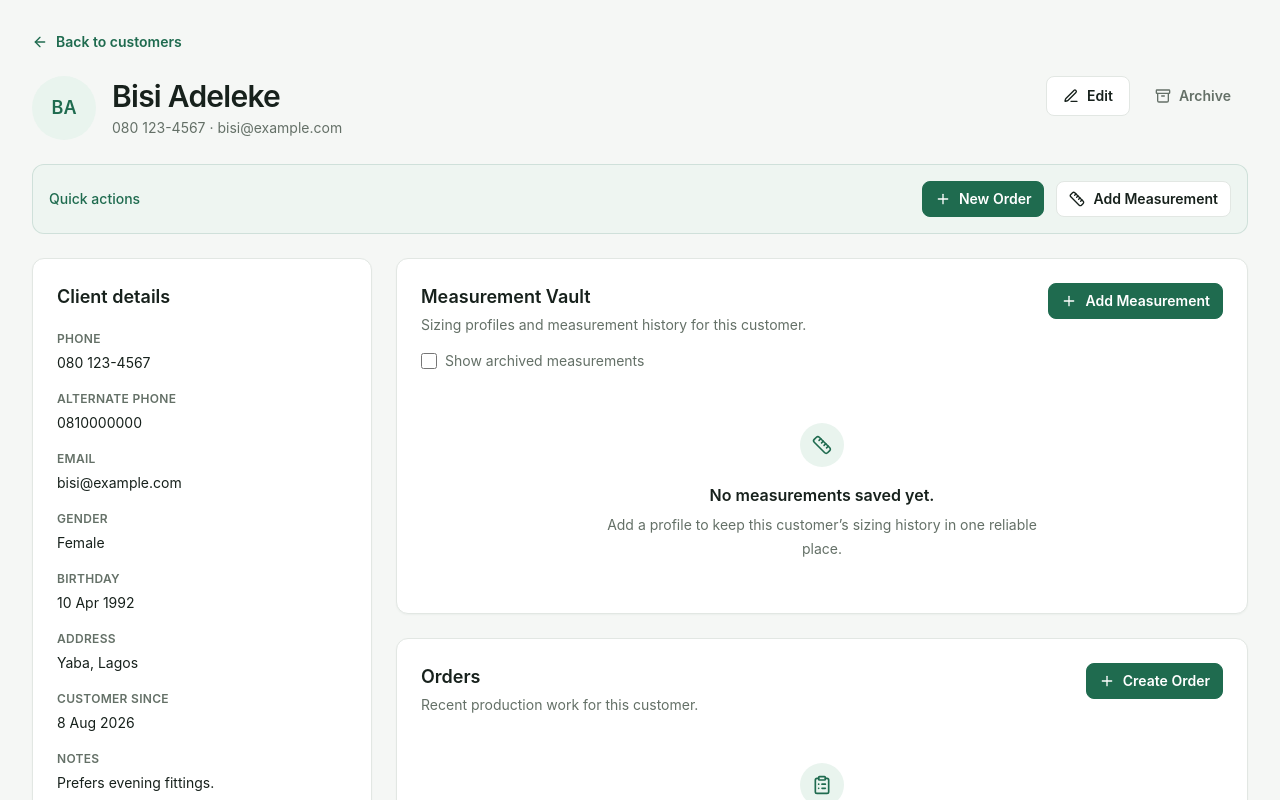
Test: archive confirmation is shown before archiving
Check: the heading "Bisi Adeleke" is shown, box [112,78,280,114]
Click the button "Archive".
click(1193, 96)  # box [1138,76,1248,116]
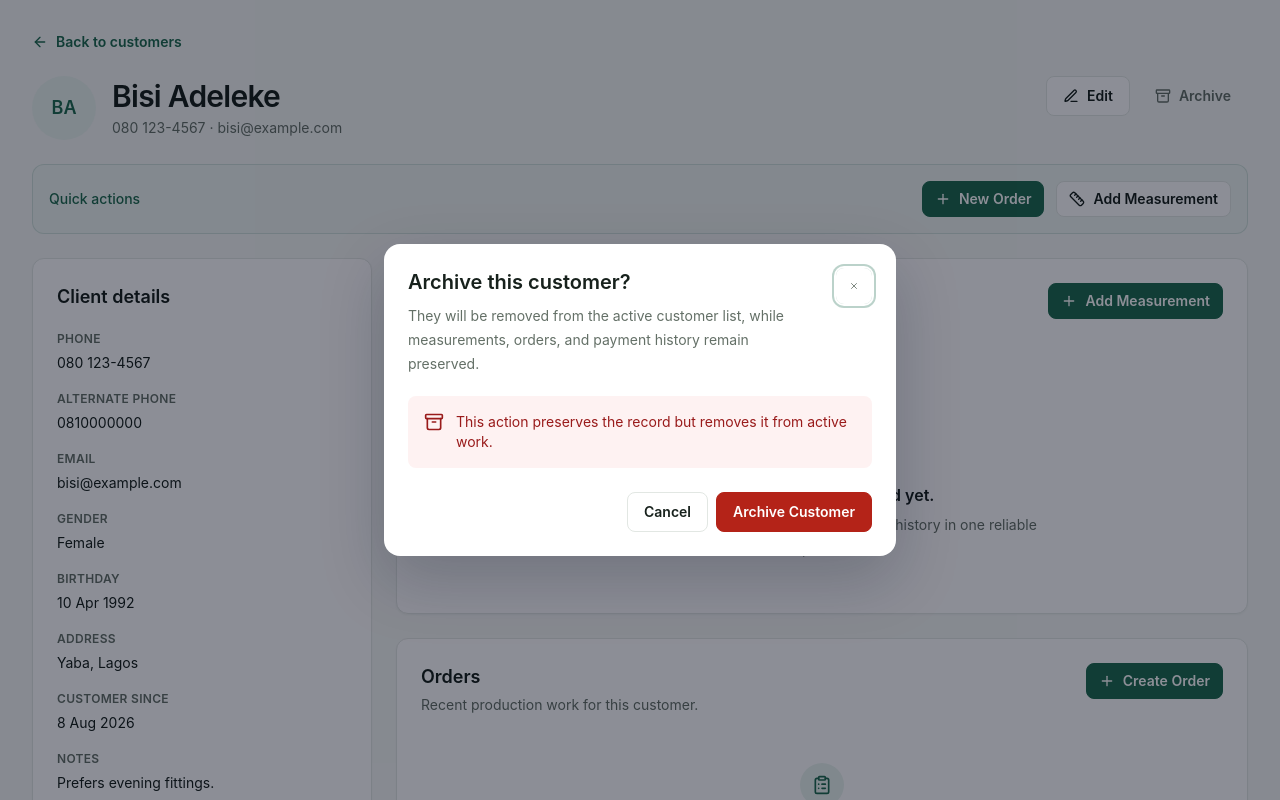
Check: the heading "Archive this customer?" is shown, box [408,270,631,294]
Check: the button "Archive Customer" is shown, box [716,492,872,532]
